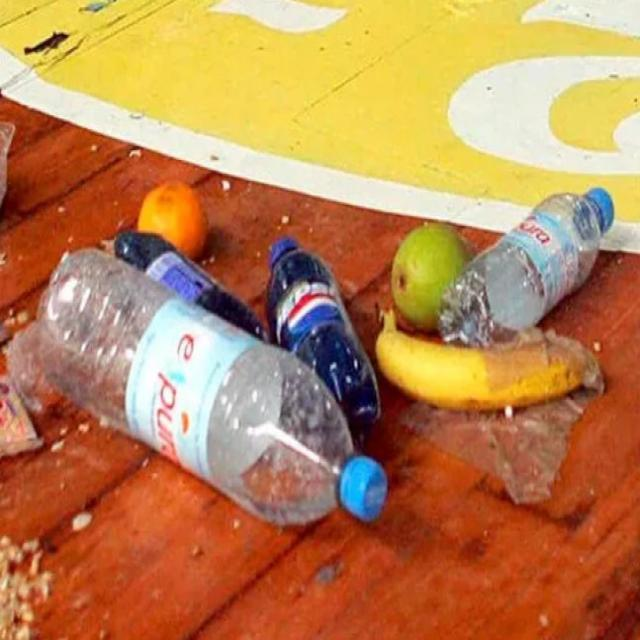fabric: (368, 298, 610, 416), (378, 192, 464, 334), (134, 161, 206, 257)
leaf: (34, 251, 388, 522), (264, 201, 379, 431), (470, 158, 612, 314), (102, 224, 271, 320)
metal: (400, 403, 580, 508)
